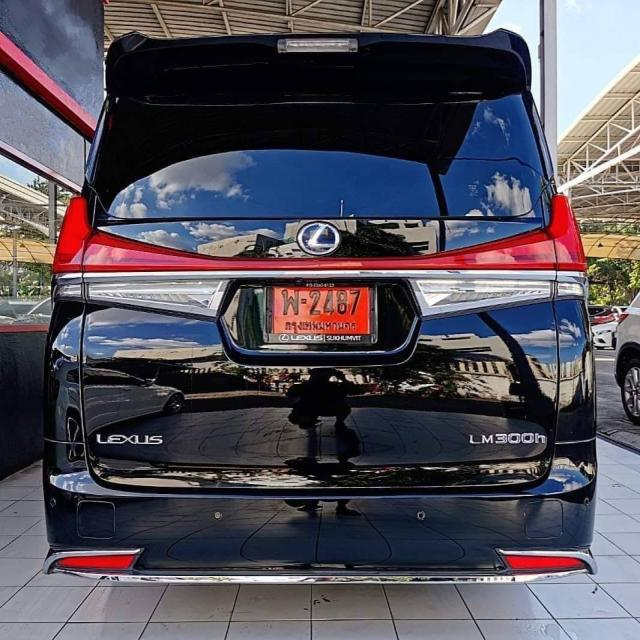license_plate: (263, 280, 376, 347)
